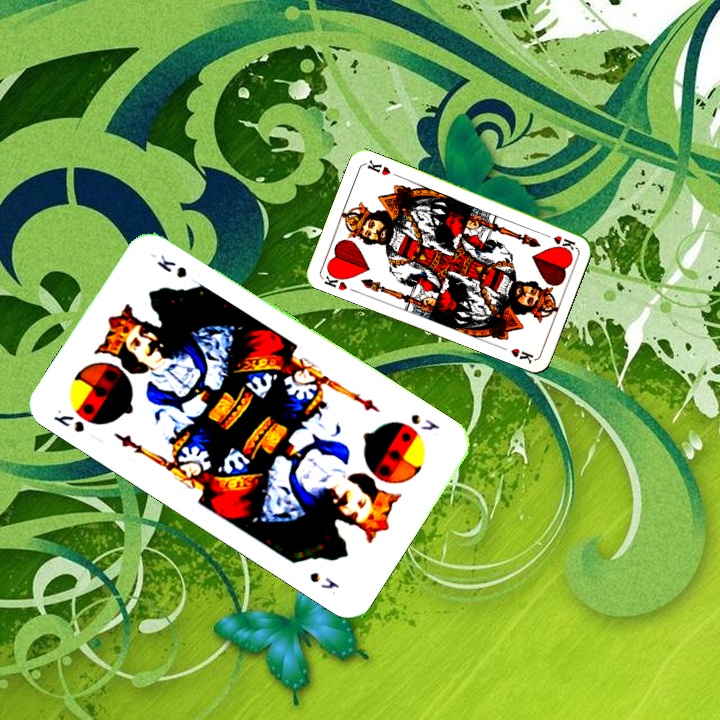HK: (538, 229, 578, 253), (320, 267, 350, 293)
SK: (49, 405, 87, 436), (406, 409, 442, 434)
